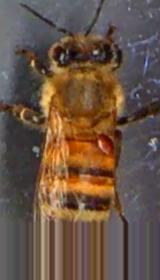varroa_mite: (90, 130, 116, 156)
